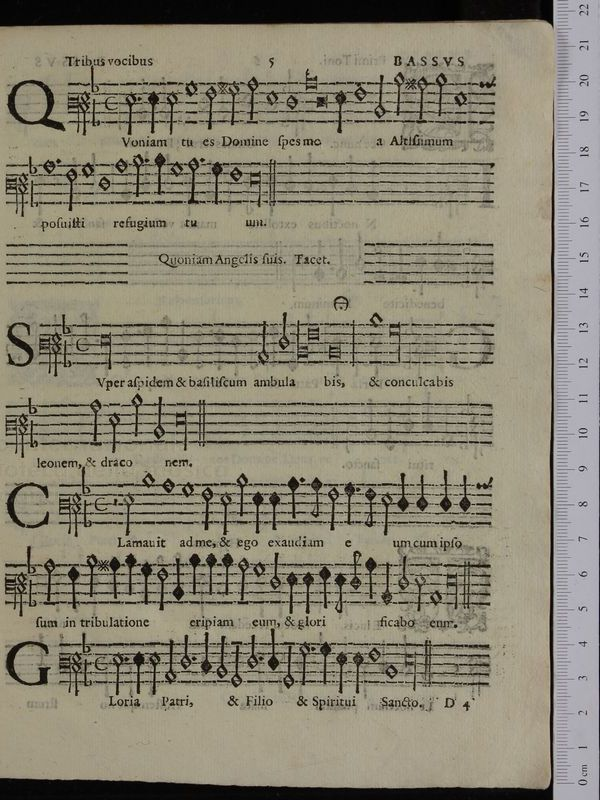Imin: (89, 645, 111, 679)
barline: (420, 632, 437, 694)
f clef_7: (52, 644, 82, 696)
flat_11: (79, 660, 93, 693)
flat_4: (76, 629, 92, 659)
longa_6: (400, 643, 420, 690)
minim_10: (163, 635, 178, 686)
minim_11: (228, 639, 243, 690), (280, 639, 294, 691)
minim_4: (296, 635, 309, 687)
minim_6: (145, 644, 161, 696), (108, 645, 123, 698)
minim_7: (178, 629, 192, 675), (244, 629, 258, 673)
minim_9: (213, 631, 228, 682)
point: (251, 647, 268, 669), (185, 648, 202, 669), (117, 649, 132, 668), (305, 640, 319, 657)
semibreve_5: (364, 640, 383, 669)
semibreve_9: (380, 656, 401, 686)
semiminim_4: (316, 635, 332, 687)
semiminim_6: (130, 642, 146, 699), (333, 643, 349, 696), (349, 643, 365, 696)
semiminim_7: (266, 626, 281, 677)
semiminim_8: (198, 626, 212, 680)
